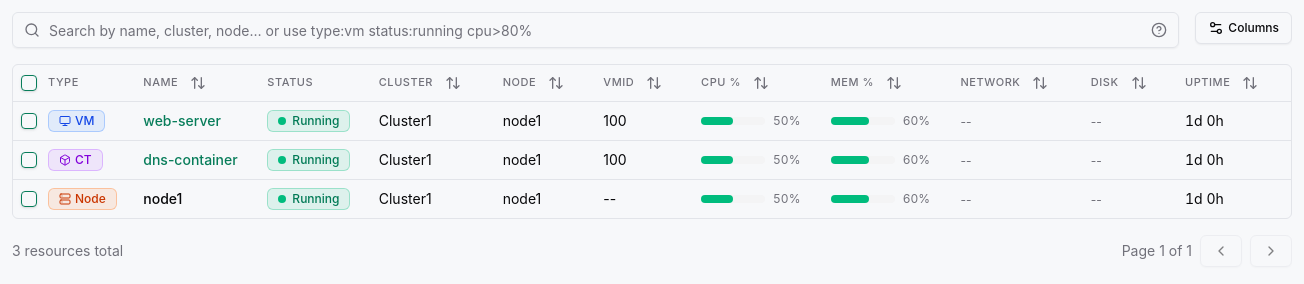
Scenario: ResourceTable › filters rows via search
Type "type:vm" into the field with placeholder "Search" at (596, 30), box left=12, top=12, right=1179, bottom=48
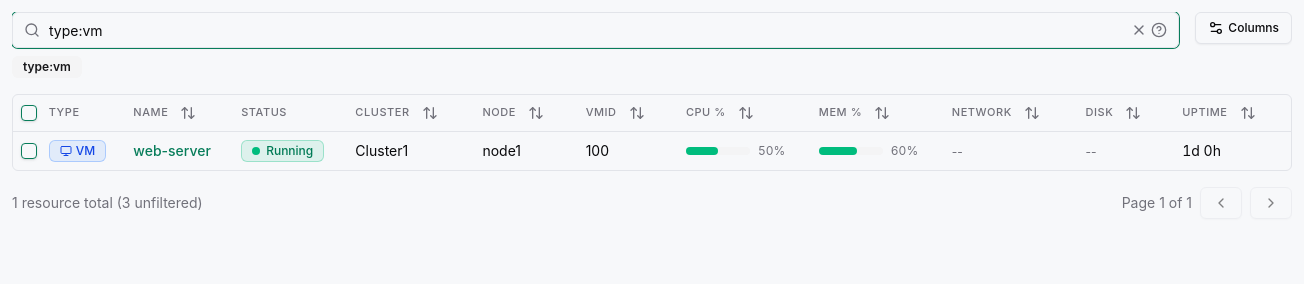
expect the text "1 resource total (3 unfiltered)" is shown: met, box left=12, top=192, right=203, bottom=212
